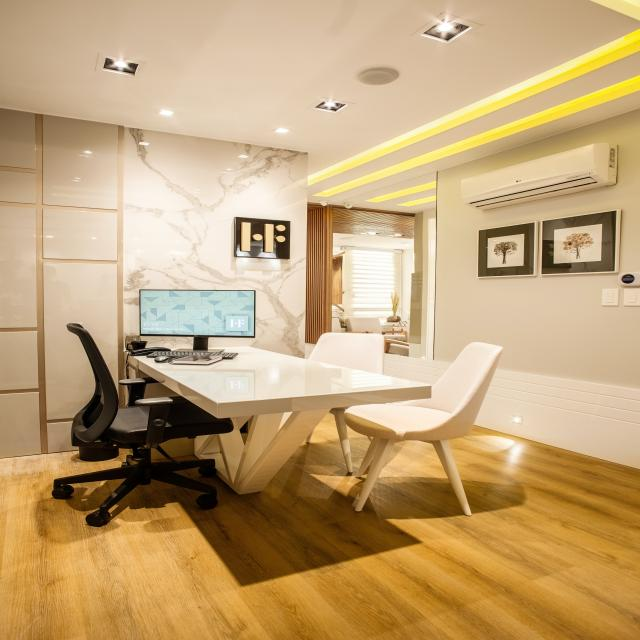floor: (0, 413, 640, 640)
wall: (384, 108, 640, 469), (0, 108, 126, 458), (124, 126, 308, 359), (461, 141, 633, 211), (539, 210, 621, 276), (477, 221, 538, 278), (420, 208, 438, 359), (408, 212, 423, 358), (400, 249, 415, 327), (140, 336, 194, 349), (208, 337, 255, 348)
